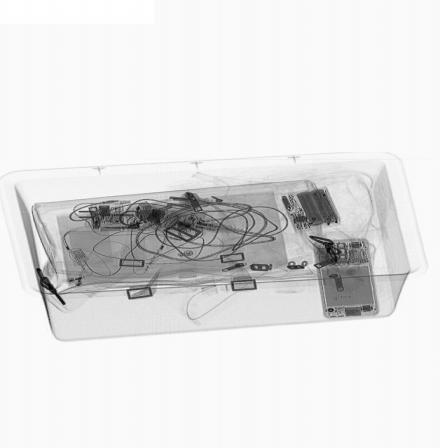Powerbank: (274, 185, 345, 234)
